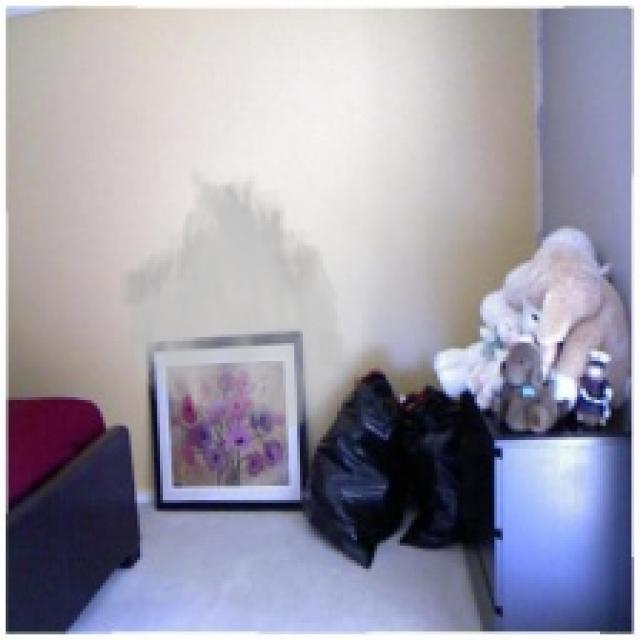Smoke: (114, 162, 349, 438)
